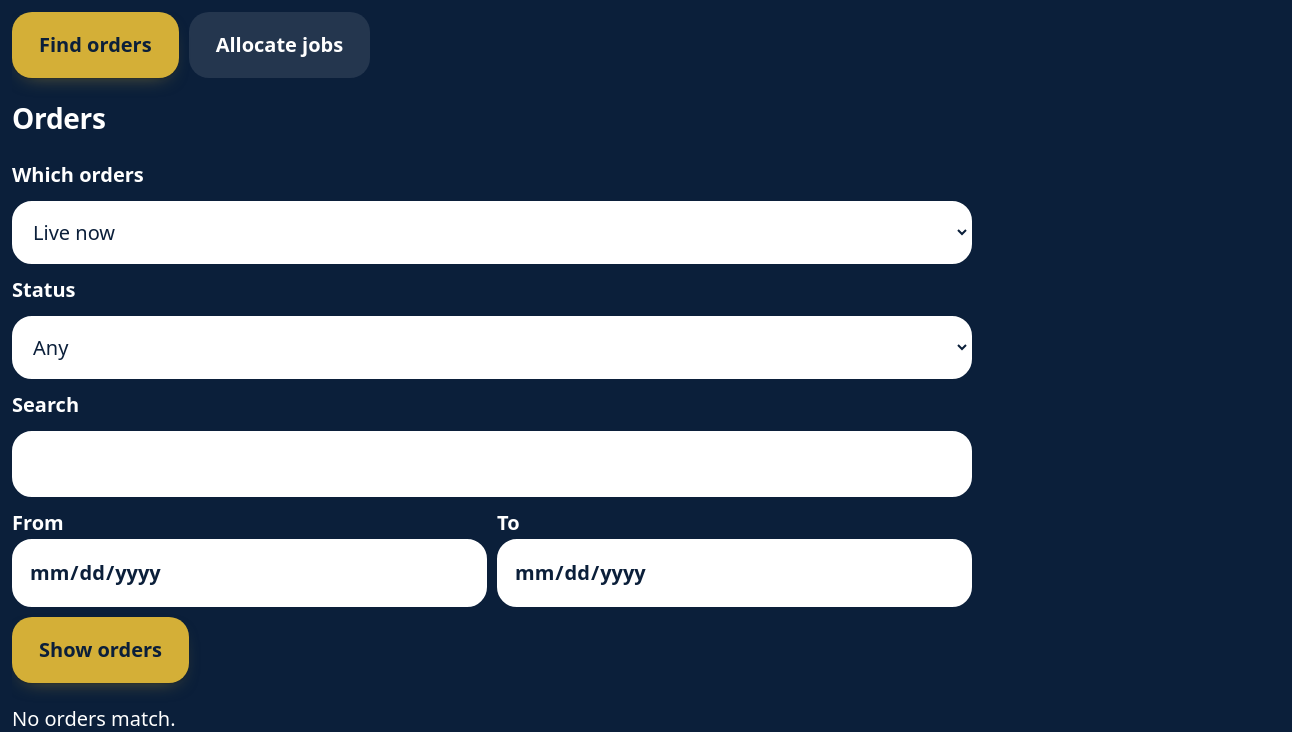
Test: the Allocate jobs view › is a view of the Orders tab only for those who may allocate
The image size is (1292, 732).
Step 1. Click the button "Allocate jobs" → (279, 45), box [189,12,370,78]
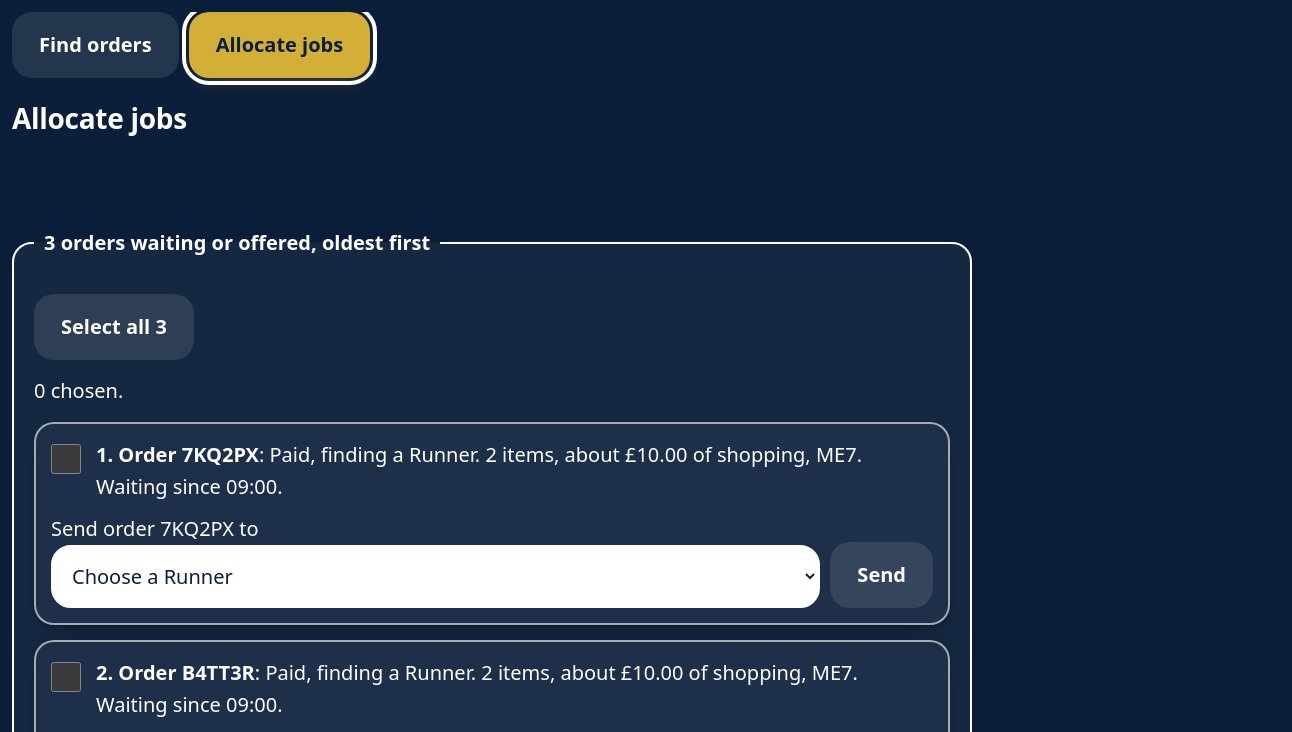
Expected: the heading "Allocate jobs" is shown, [12,99,187,137]
